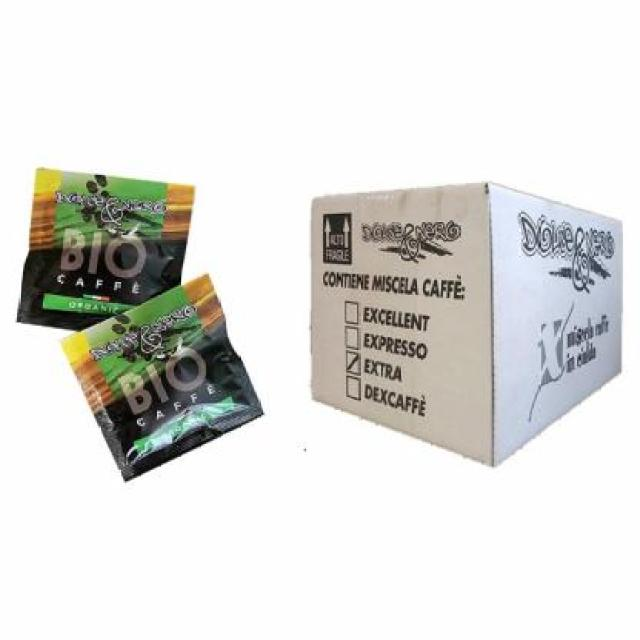box: (289, 158, 633, 482)
